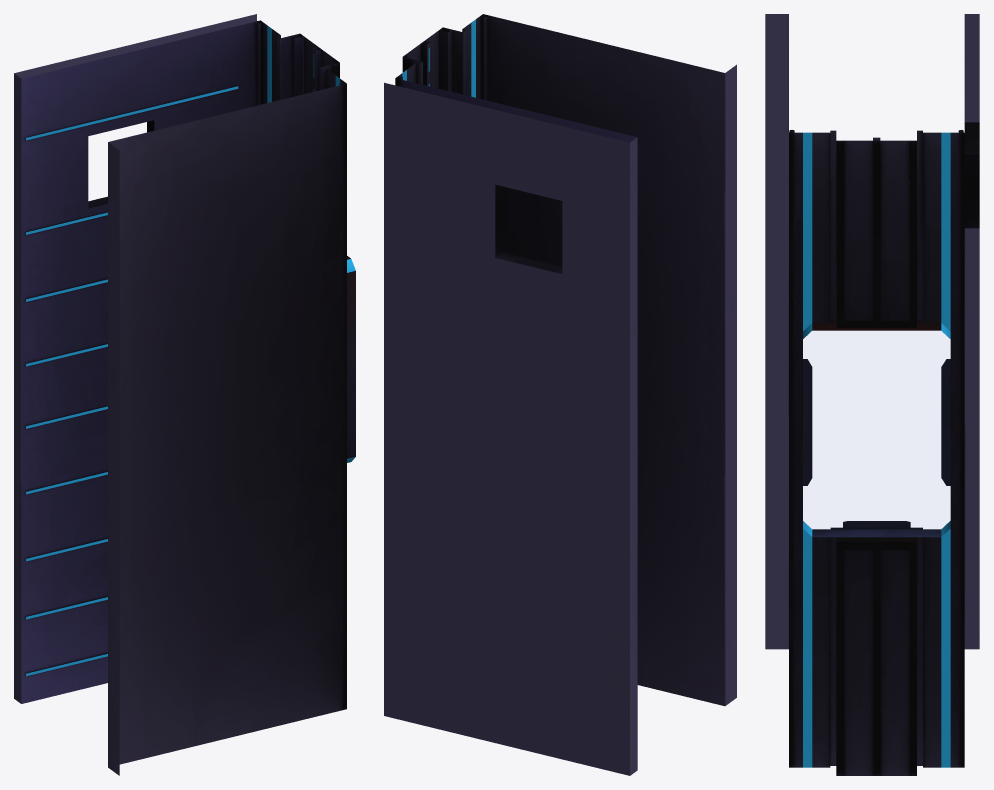
The model's file is elevatorwall_top.fbx.
3 views of the same model, side by side, from view 1: azimuth 30°, elevation 25°; view 2: azimuth 150°, elevation 25°; view 3: azimuth 270°, elevation 25° (orthographic).
Visible parts, largest first — view 1: elevatorwall_top; view 2: elevatorwall_top; view 3: elevatorwall_top.
Part boxes in pixels (x1,y1,x2,y2): elevatorwall_top: (14,14,355,775); elevatorwall_top: (384,14,736,775); elevatorwall_top: (765,14,979,775).
Size of the model in its own units: 9.12 by 21.33 by 6.52.
Materials: 3 (2 with a texture image).
